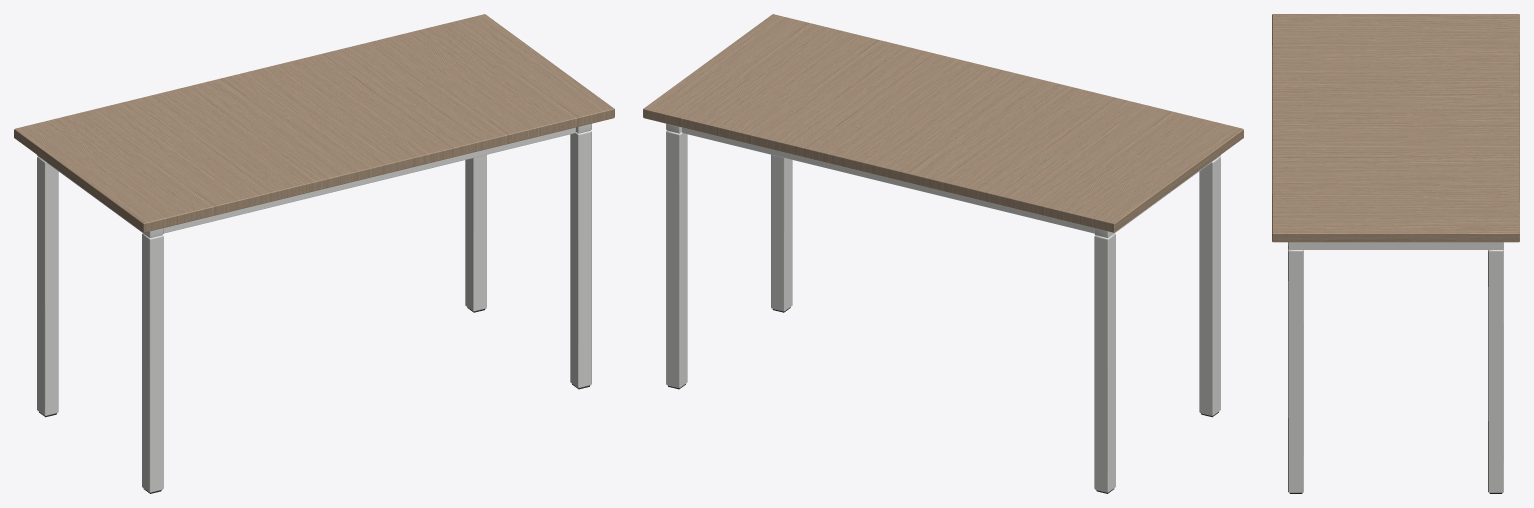
The model's file is desk_2.glb.
3 views of the same model, side by side, from view 1: azimuth 30°, elevation 25°; view 2: azimuth 150°, elevation 25°; view 3: azimuth 270°, elevation 25° (orthographic). The views are drawn at different scales.
Visible parts, largest first — view 1: desk_v2; view 2: desk_v2; view 3: desk_v2.
Boxes of the visible parts, x1=… form: desk_v2: x1=14, y1=14, x2=614, y2=493; desk_v2: x1=643, y1=14, x2=1243, y2=493; desk_v2: x1=1272, y1=14, x2=1519, y2=493.
Bounding box in the file's own units: 1.3 × 0.7401 × 0.6199.
Materials: 3 (1 with a texture image).
